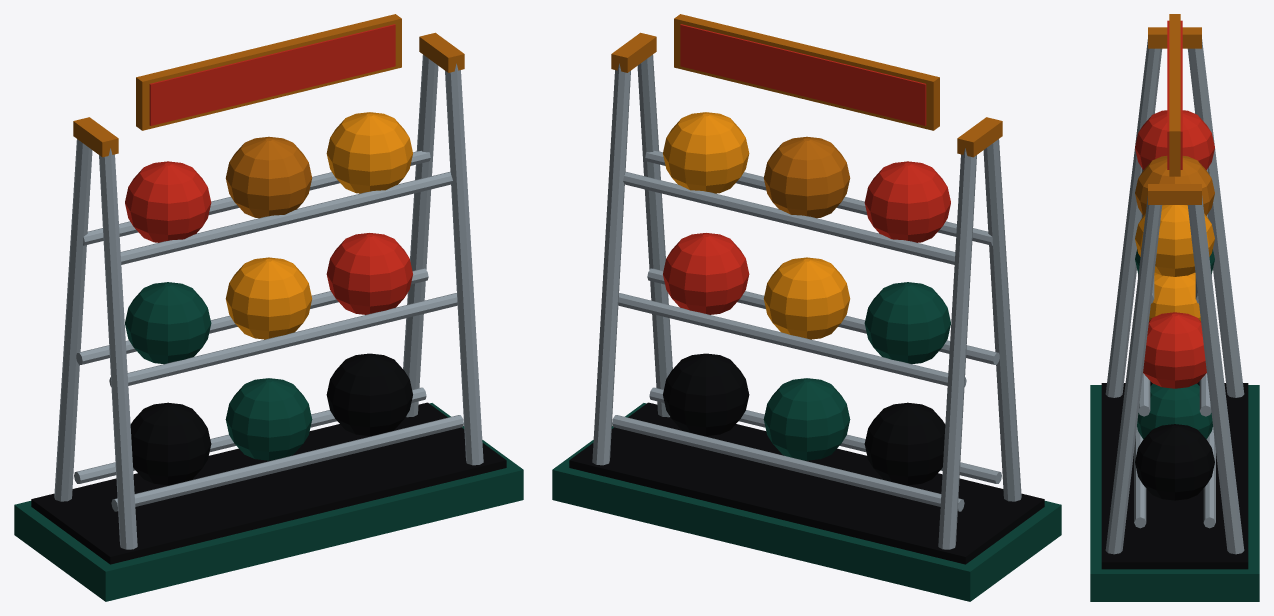
Rendered from cozy_bowling_ball_rack_tiered.obj.
The picture shows the model from 3 angles, left to right: view 1: azimuth 30°, elevation 25°; view 2: azimuth 150°, elevation 25°; view 3: azimuth 270°, elevation 25°; orthographic projection. The views are drawn at different scales.
Parts seen in each view (by area): view 1: BallRack_Mesh; view 2: BallRack_Mesh; view 3: BallRack_Mesh.
Boxes of the visible parts, x1,y1,x2,y2 form: BallRack_Mesh: (14,14,523,601); BallRack_Mesh: (552,14,1061,601); BallRack_Mesh: (1090,14,1259,601).
Size of the model in its own units: 1.16 by 1.25 by 0.44.
